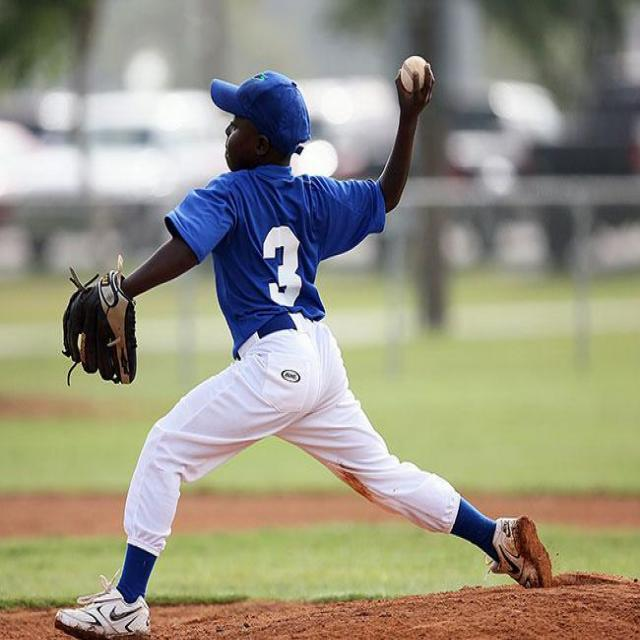baseball: (399, 56, 429, 96)
